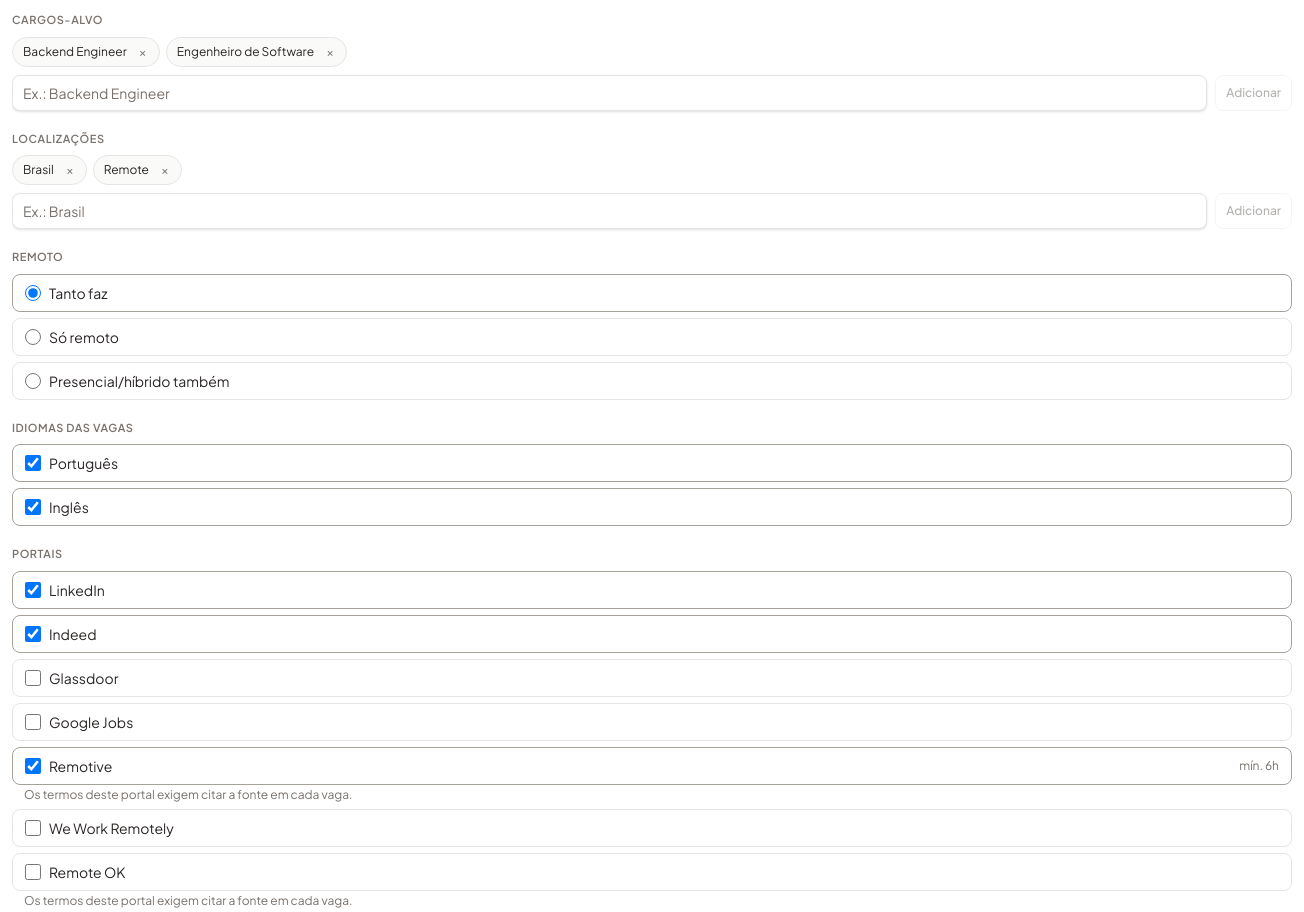
Test: SearchProfileForm › rejects a duplicate chip case-insensitively and keeps the list unchanged
In the field named "Adicionar cargo": (610, 92) [12,74,1207,110], type "  backend engineer  "
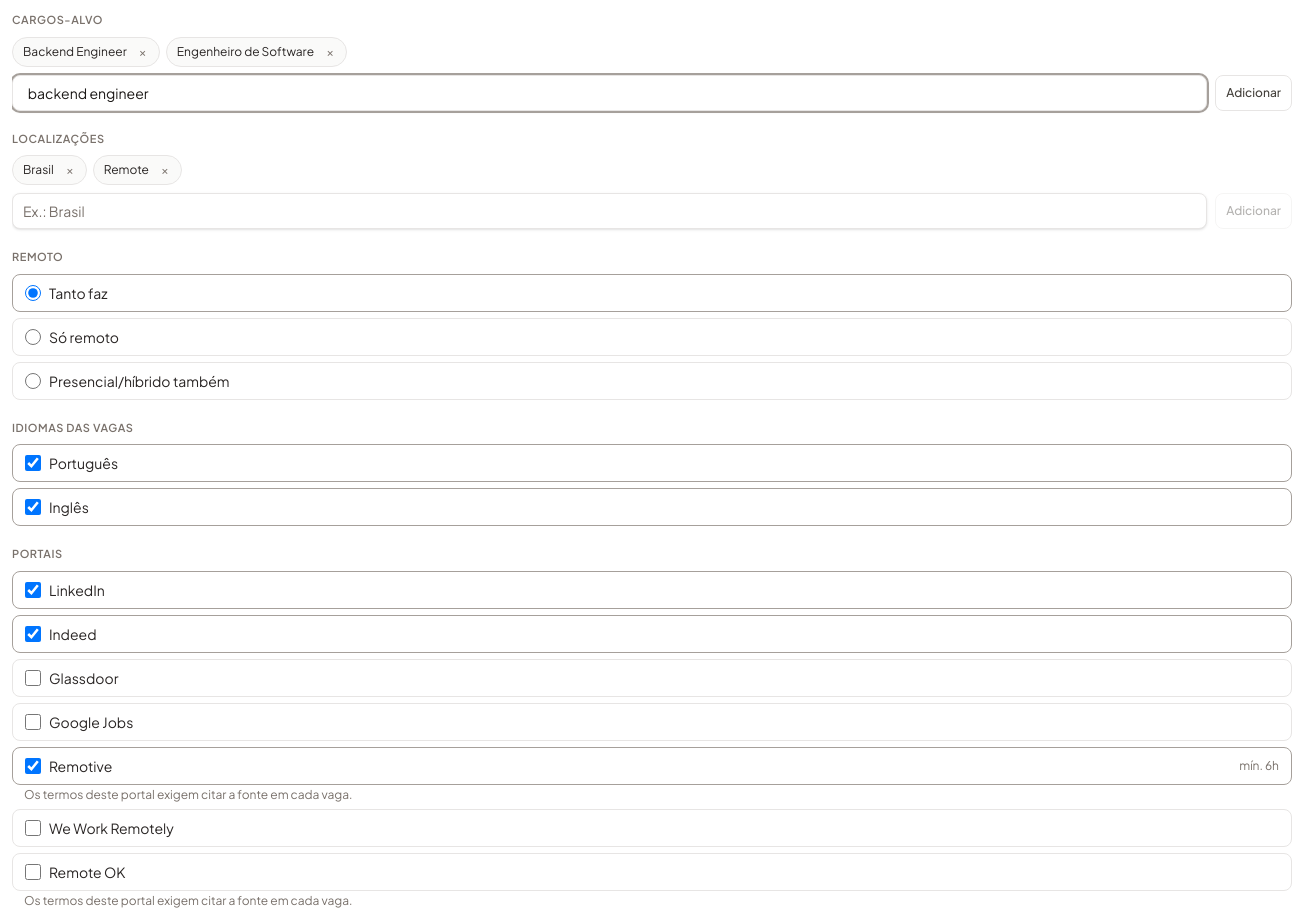
Click the 1st button "Adicionar": (1254, 92) [1215,74,1292,110]
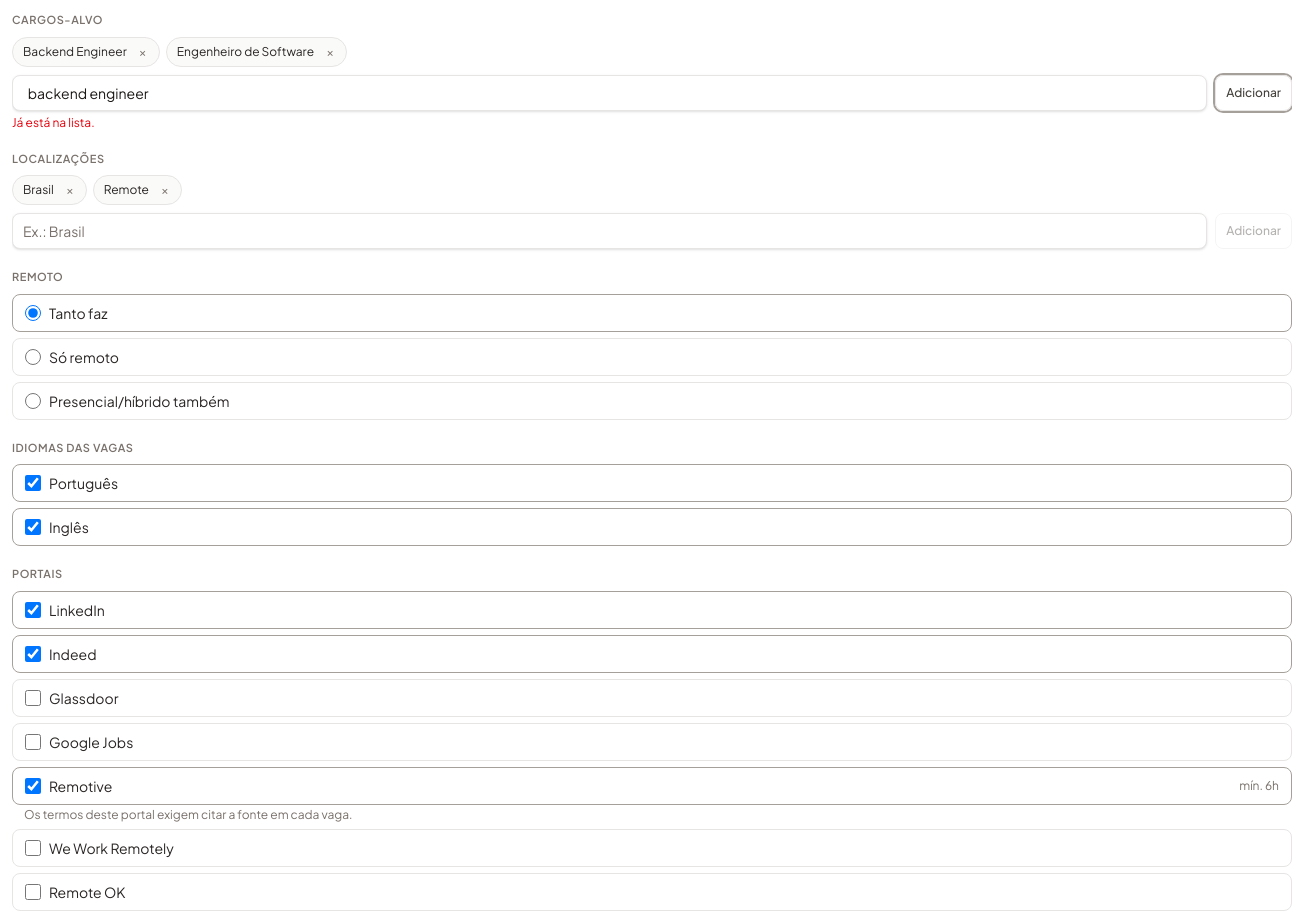
Expected: the message reads "Já está na lista.", [12,114,95,130]
